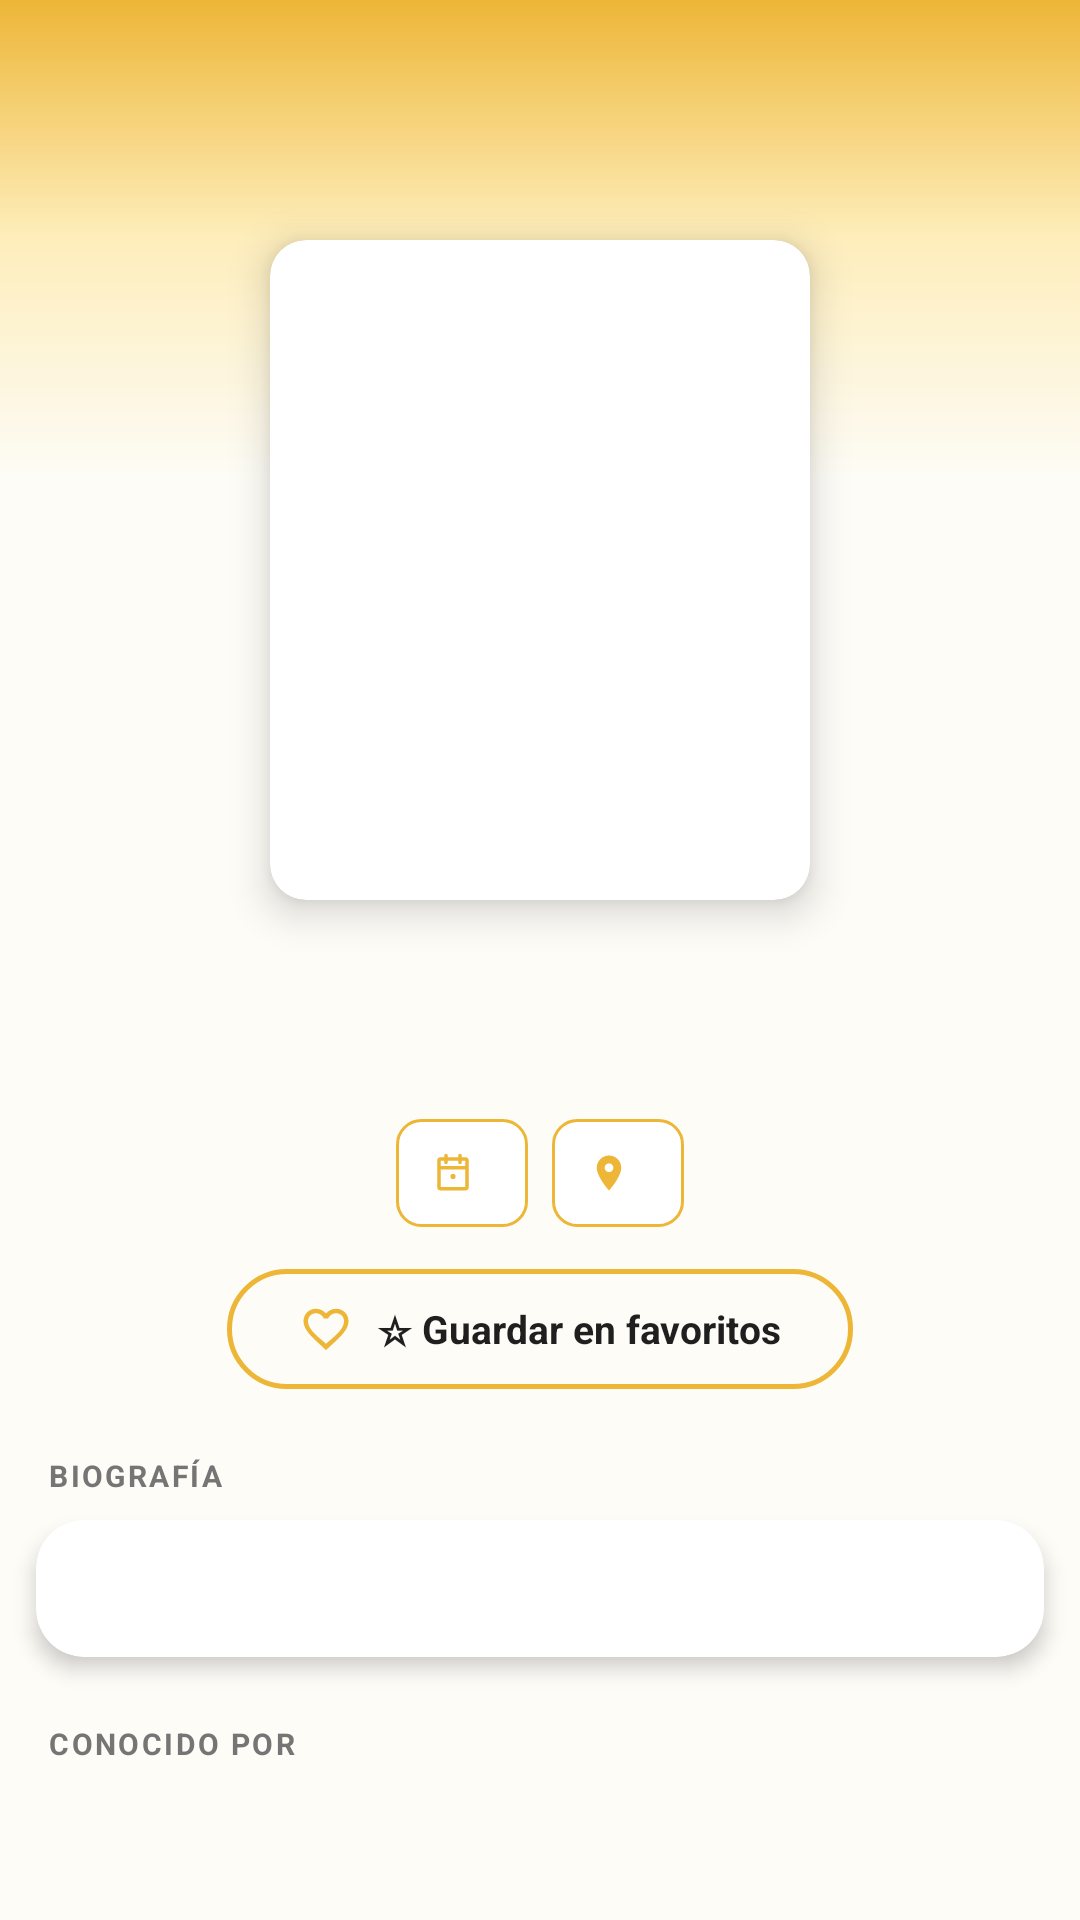

Where to tap for icons on this 1080w x 1920h app screen, as (x,y):
calendar: (453,1172)
heart: (326,1329)
location: (609,1172)
